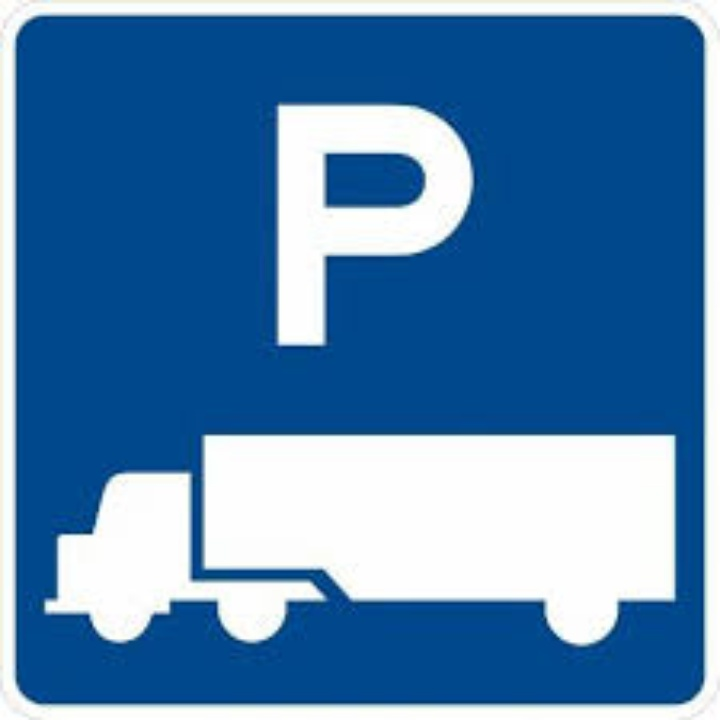parking: (268, 93, 480, 345)
